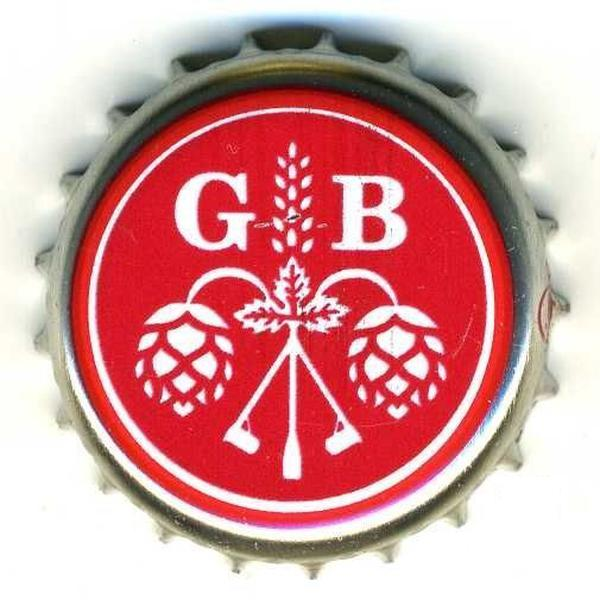grolsch: (32, 21, 576, 586)
